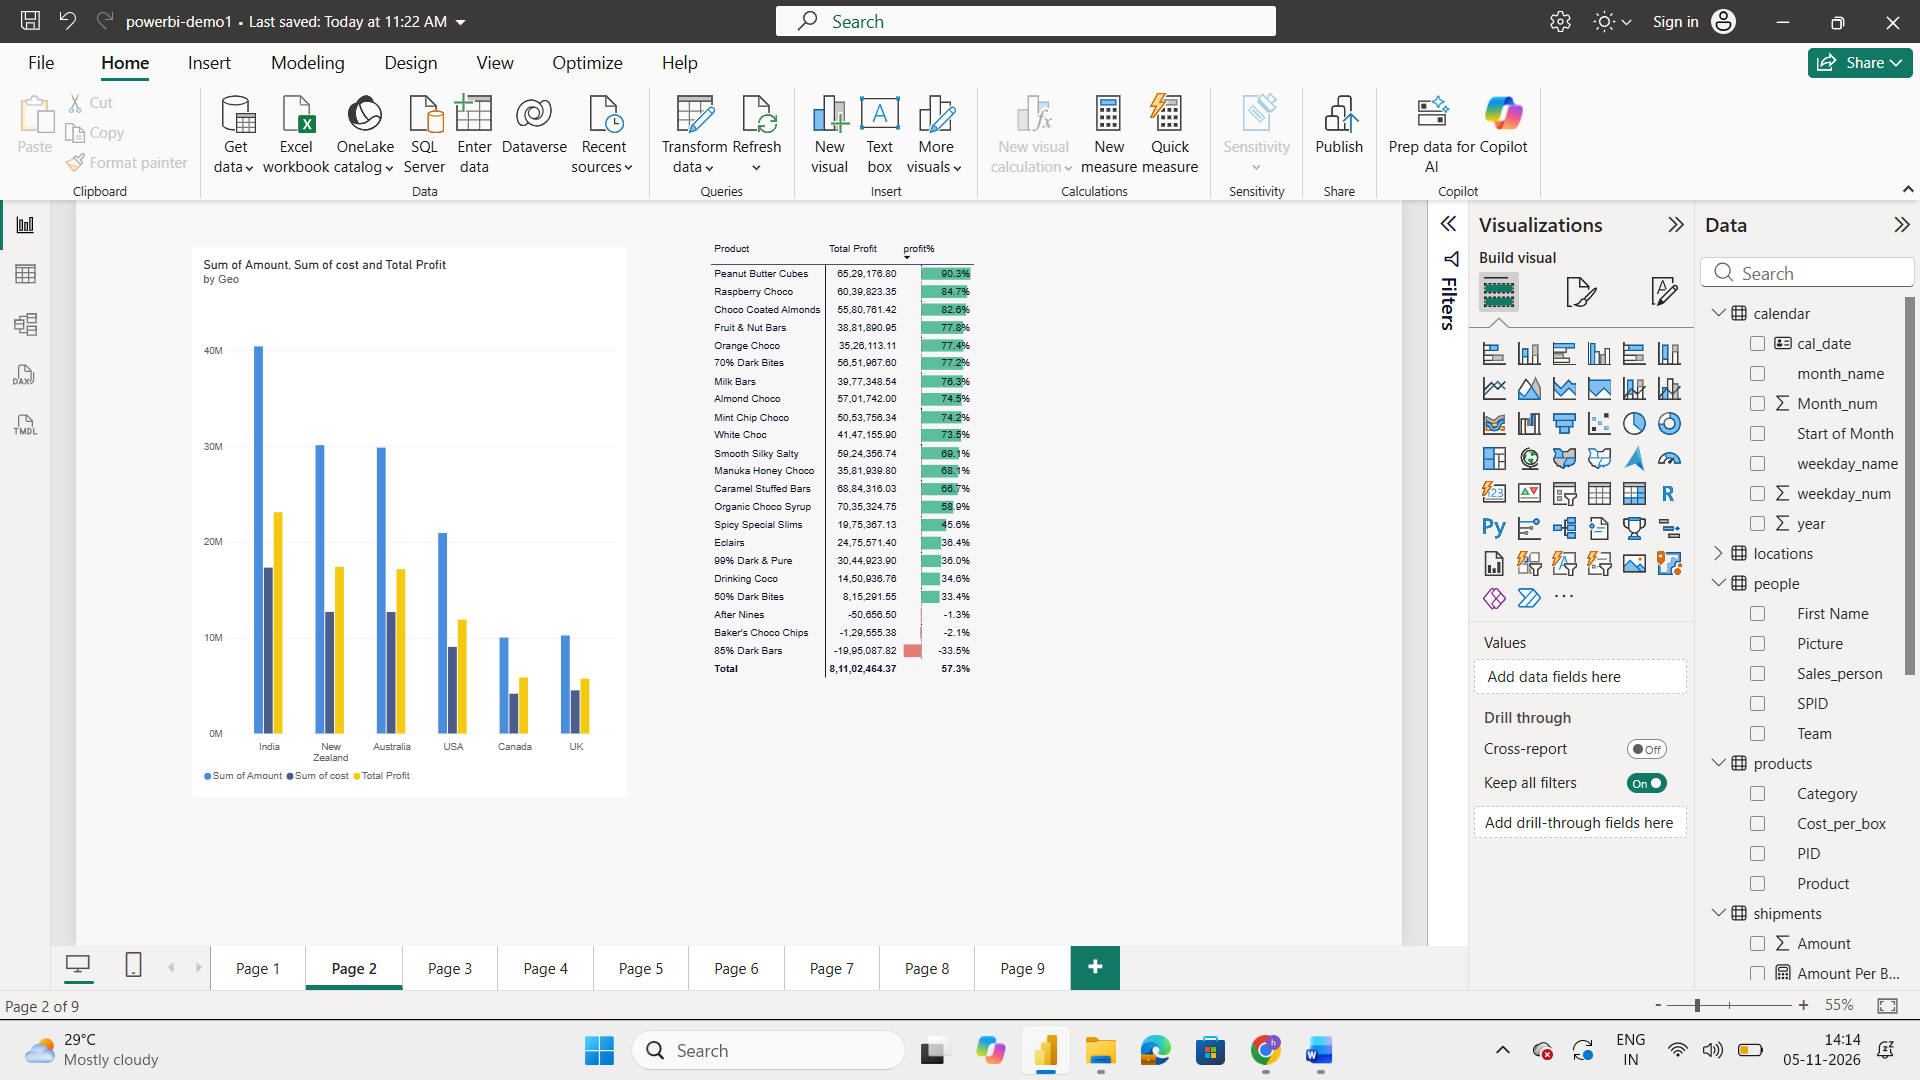

The dashboard page shown, as its layout file describes it:
{"tool":"powerbi","page":{"name":"Page 2","canvas":[1920,1080],"ordinal":1},"visuals":[{"type":"clusteredColumnChart","fields":{"Category":["locations.Geo"],"Y":["Sum(shipments.Amount)","Sum(shipments.cost)","shipments.Total Profit"]},"box":[168.3,68.8,629.8,796.3],"z":0},{"type":"pivotTable","fields":{"Rows":["products.Product"],"Values":["shipments.Total Profit","shipments.profit%"]},"box":[903,43.4,629.8,790.8],"z":1000}]}

Visuals, with their boxes on the page's 1920x1080 design canvas (x1, y1, x2, y2). These are canvas units, not pixel positions in the 1920x1080 screenshot, which may show the page scaled, cropped or inside an application window:
clusteredColumnChart - locations.Geo x Sum(shipments.Amount): l=168, t=69, r=798, b=865
pivotTable - products.Product x shipments.Total Profit: l=903, t=43, r=1533, b=834
